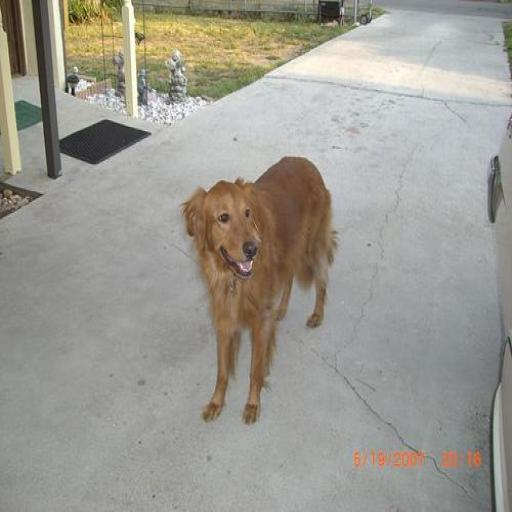dog_face: (188, 182, 263, 281)
